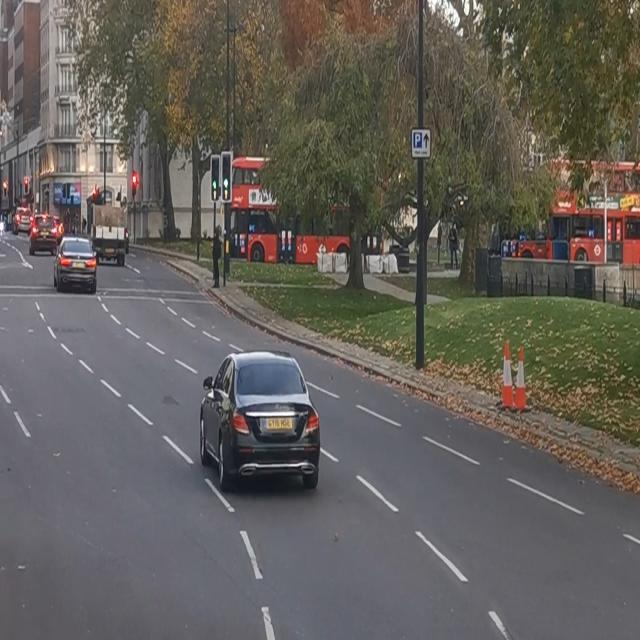Car: (197, 349, 320, 494), (88, 194, 130, 268), (54, 237, 99, 295), (30, 211, 58, 258)
